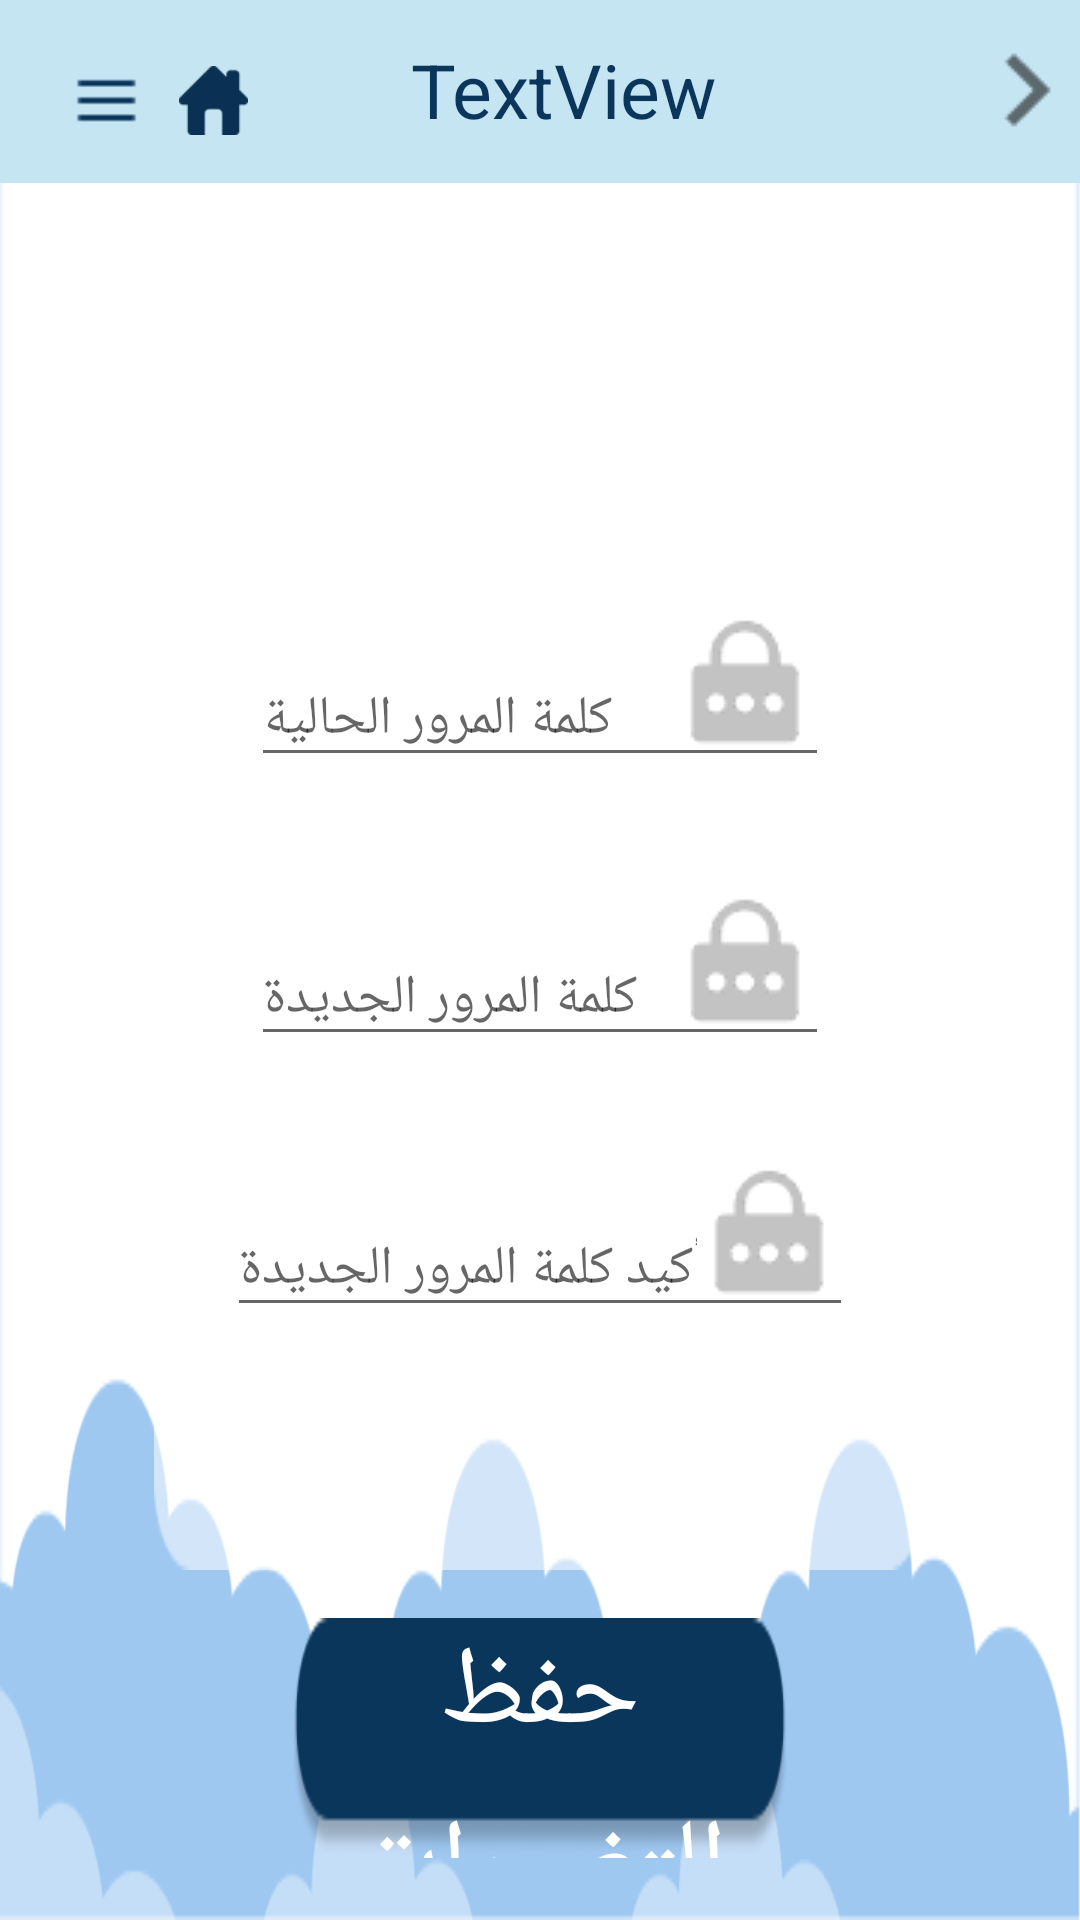

Icon click points for this 1080px x 1920px phone screenshot, format (x=x, y=y):
home: (x=213, y=100)
menu: (x=106, y=100)
